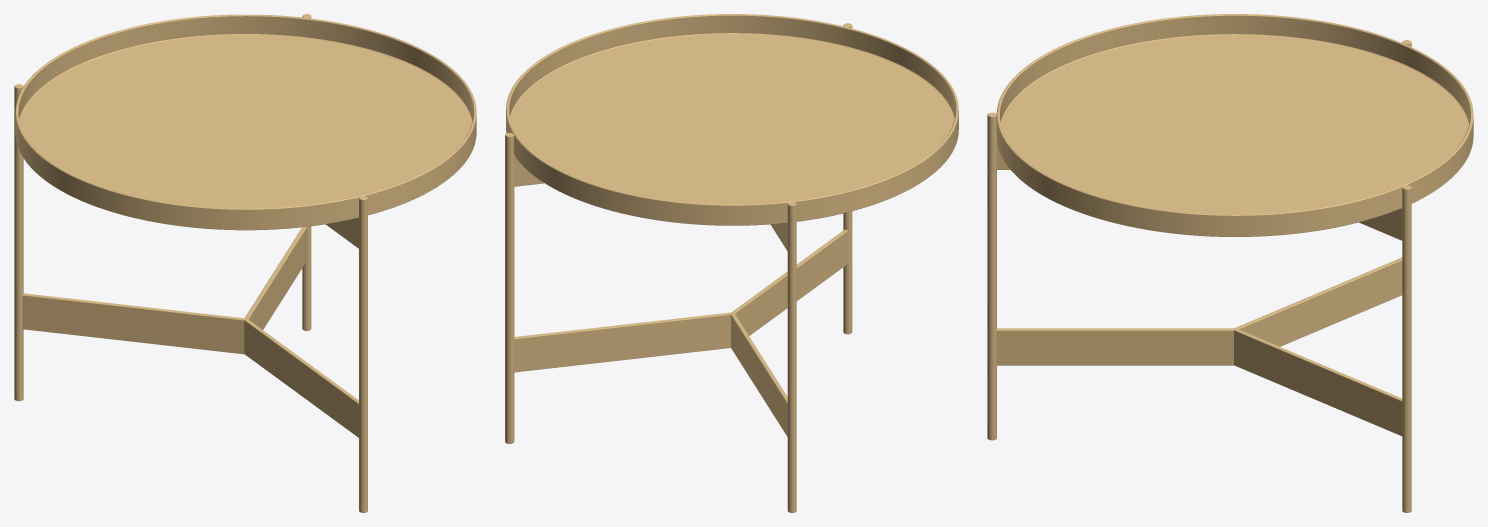
Rendered from Pianca_Abaco_60x45_mat(2).fbx.
3 renders of one model, left to right at view 1: azimuth 30°, elevation 25°; view 2: azimuth 150°, elevation 25°; view 3: azimuth 270°, elevation 25°, orthographic. The views are drawn at different scales.
Visible parts, largest first — view 1: Pianca_Abaco_60x45_mat2; view 2: Pianca_Abaco_60x45_mat2; view 3: Pianca_Abaco_60x45_mat2.
Boxes of the visible parts, box(x1,y1,x2,y2) form: Pianca_Abaco_60x45_mat2: box(14, 14, 476, 512); Pianca_Abaco_60x45_mat2: box(505, 14, 958, 512); Pianca_Abaco_60x45_mat2: box(987, 14, 1473, 512).
Size of the model in its own units: 60 by 61.16 by 45.
